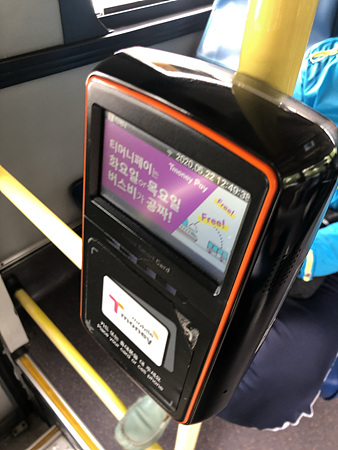terminal: (83, 46, 328, 427)
